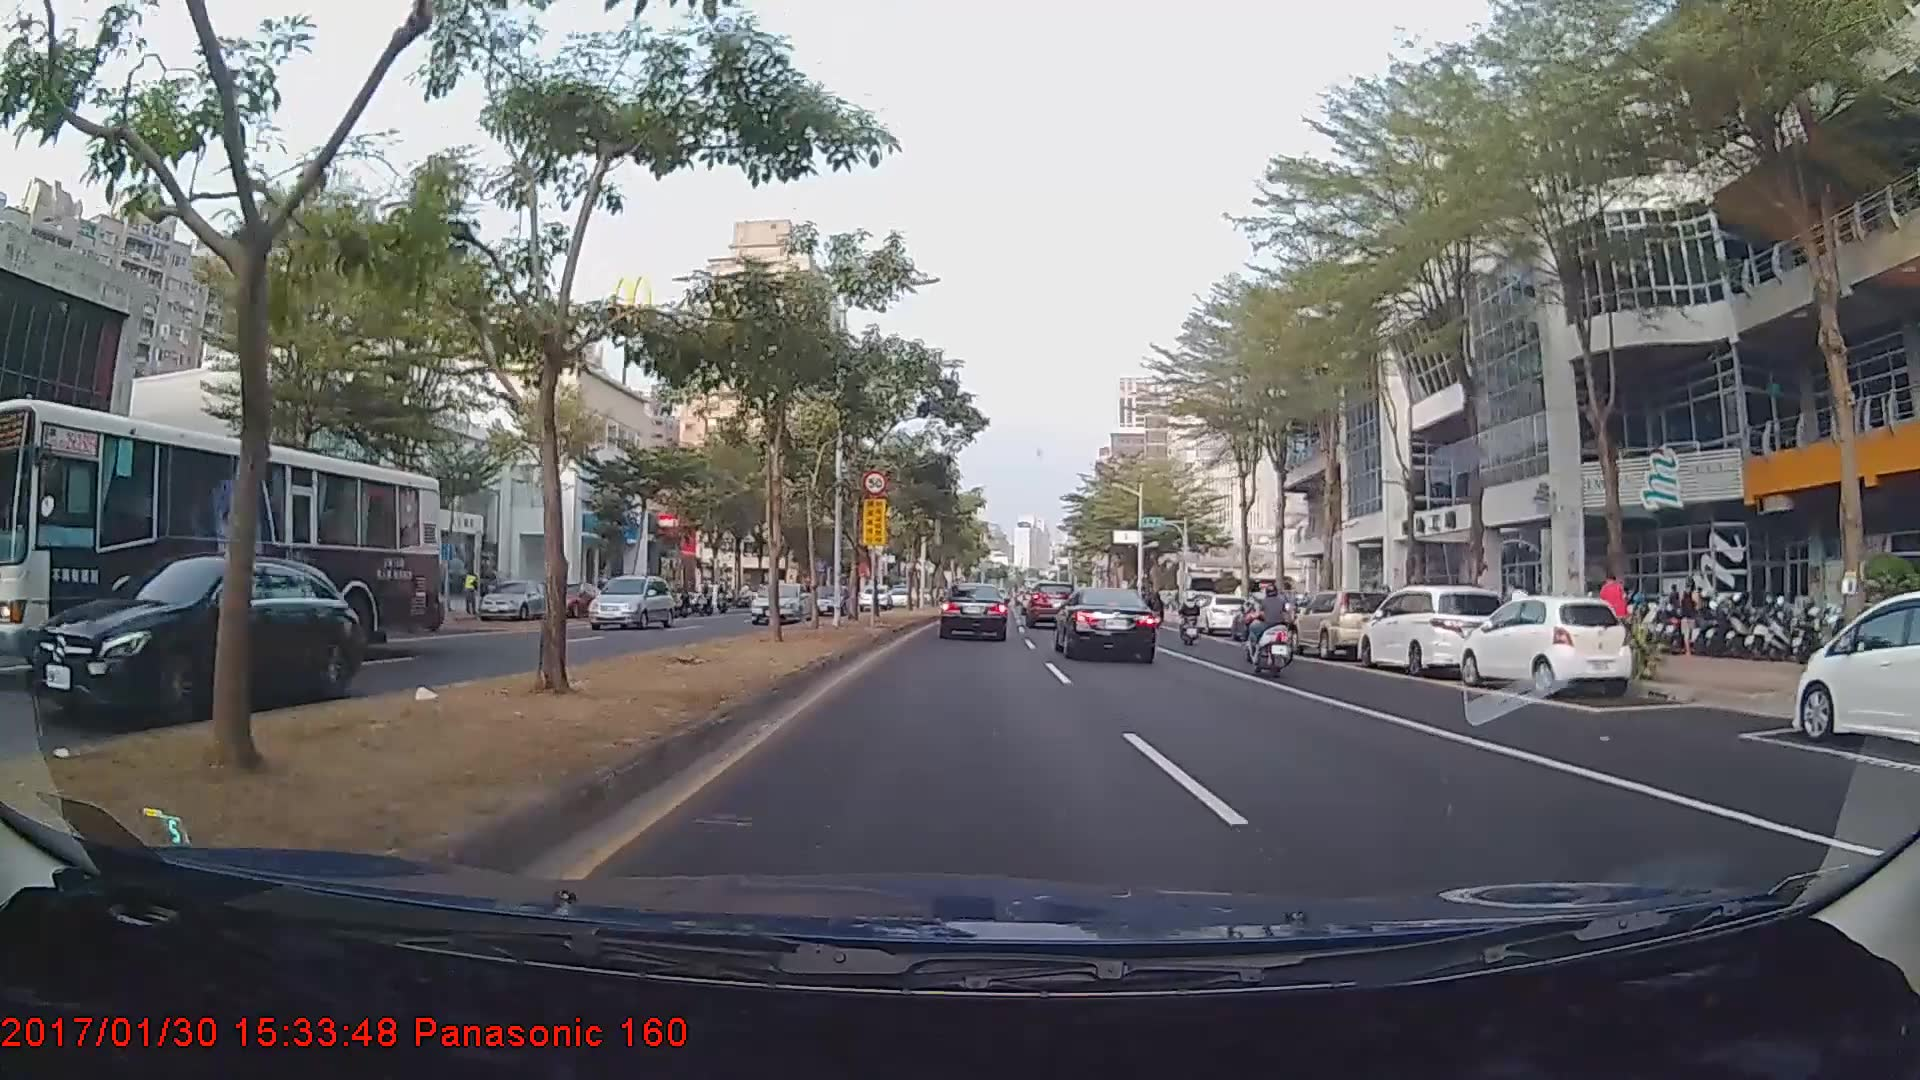rider: (1239, 582, 1308, 677), (1174, 589, 1205, 645)
vehicle: (0, 400, 444, 679), (28, 551, 362, 730), (1790, 583, 1919, 768), (1455, 593, 1632, 698), (1361, 584, 1509, 680), (1055, 585, 1158, 664), (1288, 588, 1395, 661), (587, 575, 673, 628), (939, 580, 1009, 642), (477, 577, 554, 620), (749, 582, 810, 623), (1195, 593, 1250, 637), (1024, 584, 1075, 630), (808, 584, 851, 616), (857, 585, 891, 611)
